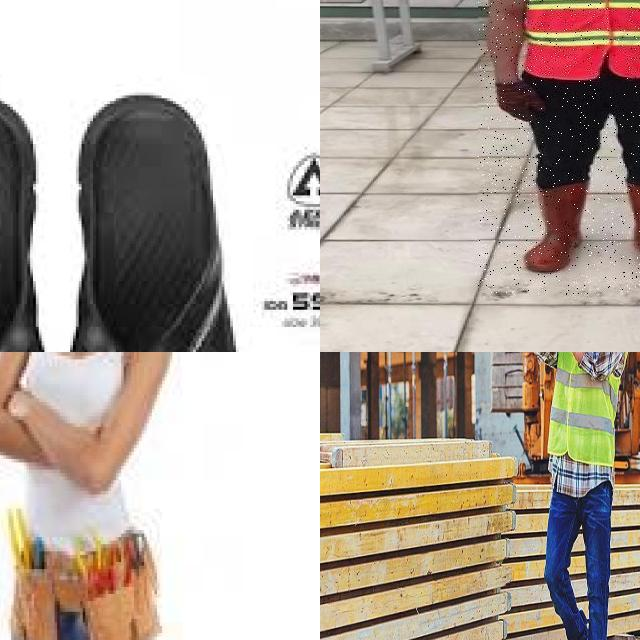Sandals: (0, 64, 310, 352)
boots: (520, 179, 590, 275)
person: (478, 0, 640, 295), (542, 352, 632, 640)
vest: (516, 0, 640, 79), (550, 352, 629, 469)
